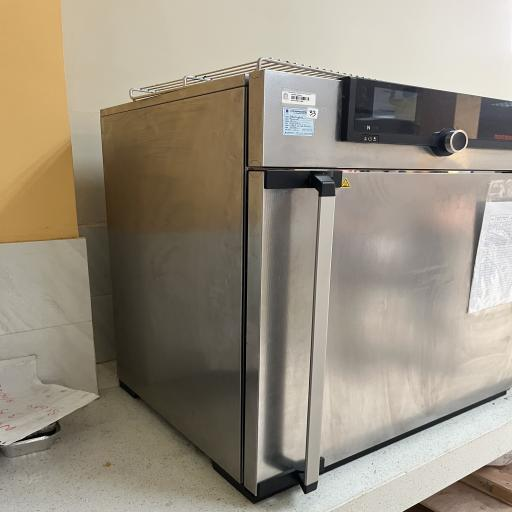Memmert_Unidad2: (87, 59, 512, 500)
